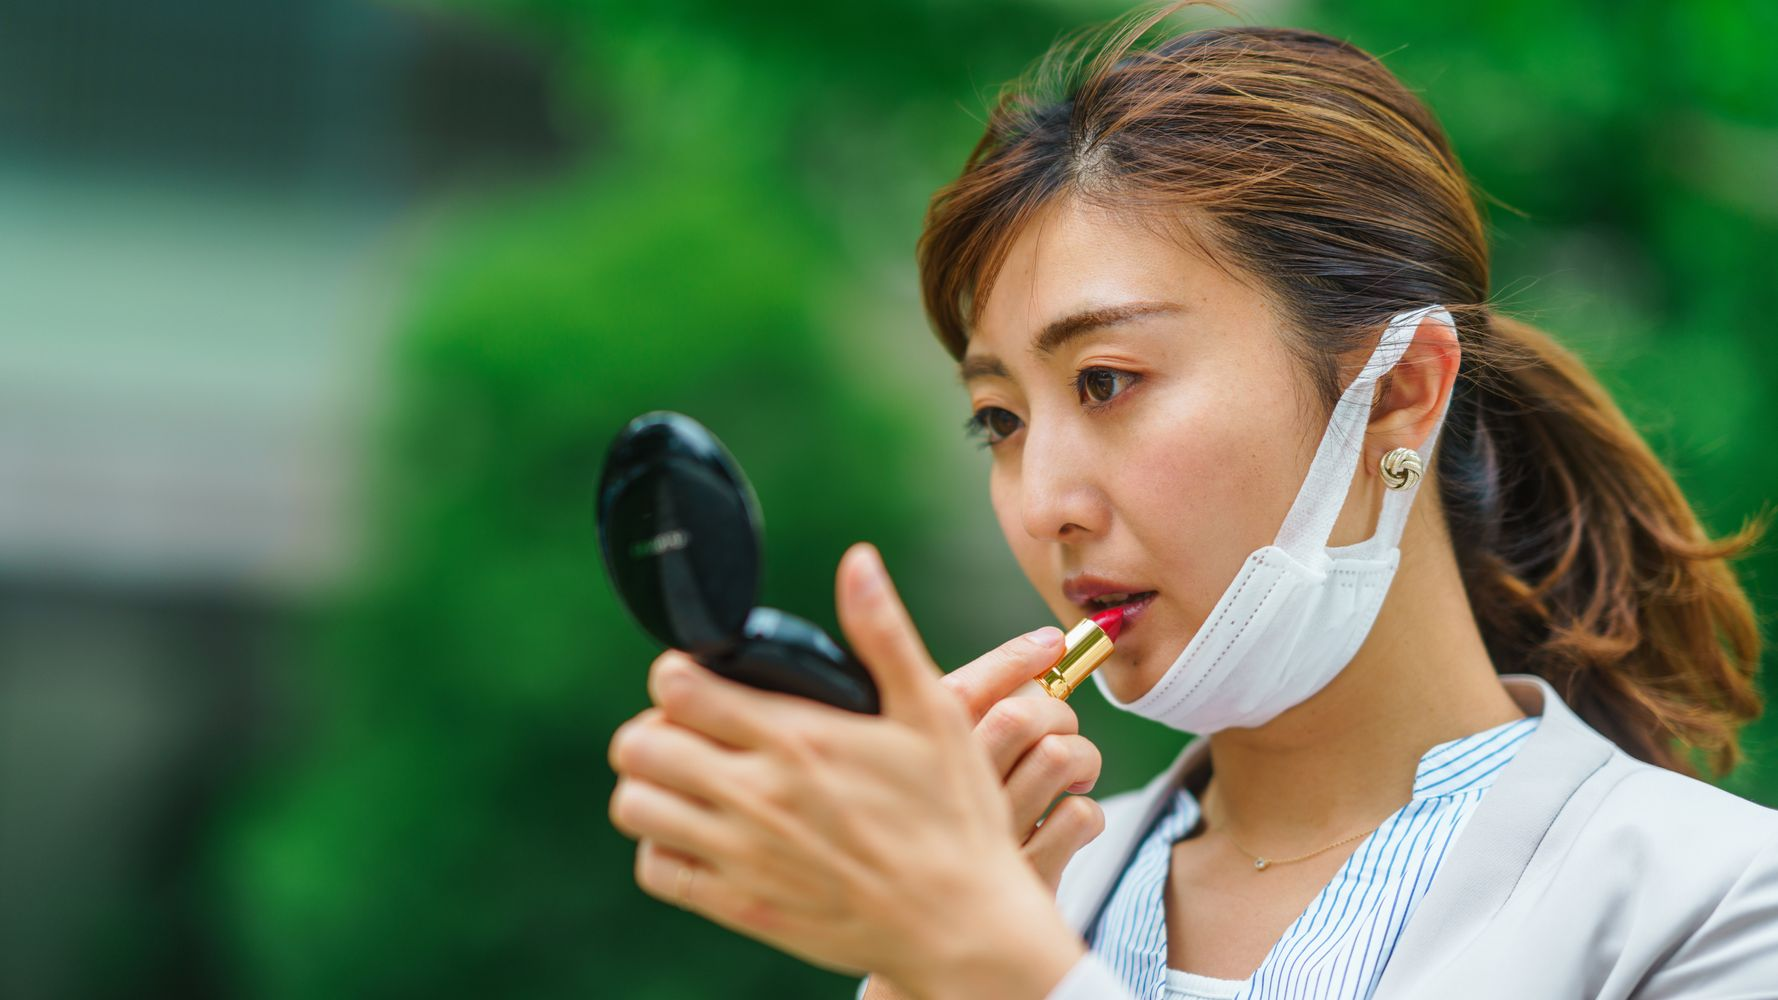with_incorrect_mask: (958, 280, 1426, 718)
